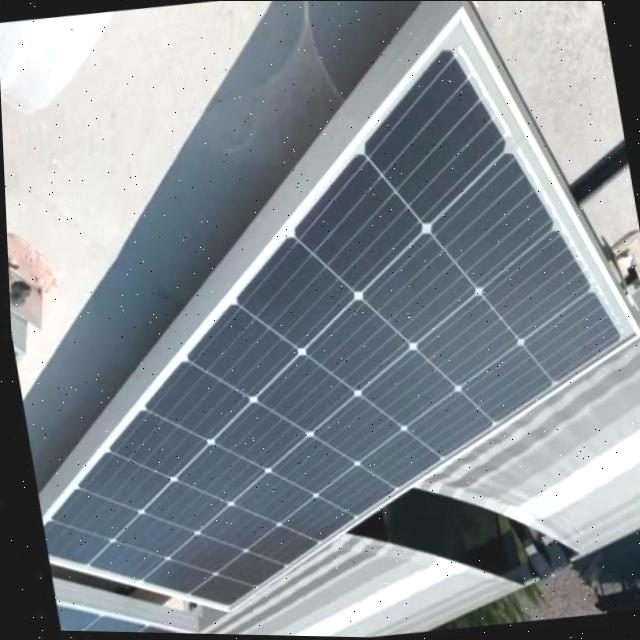Normal Solar Panel: (0, 0, 640, 640), (50, 578, 195, 635)
